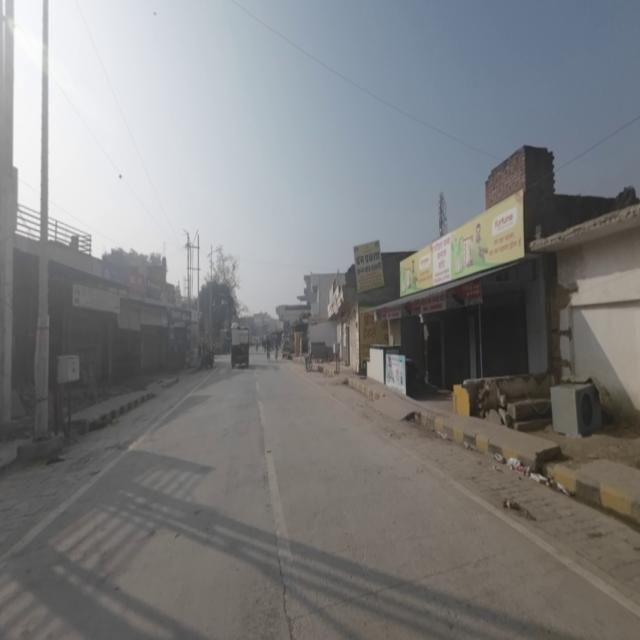Garbage: (508, 452, 529, 478)
